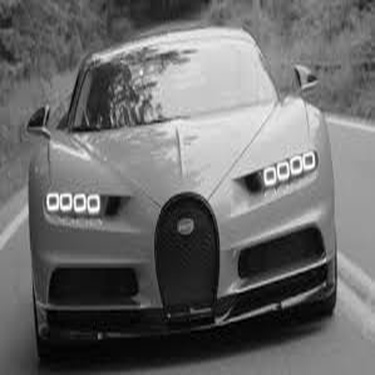car: (11, 20, 344, 363)
